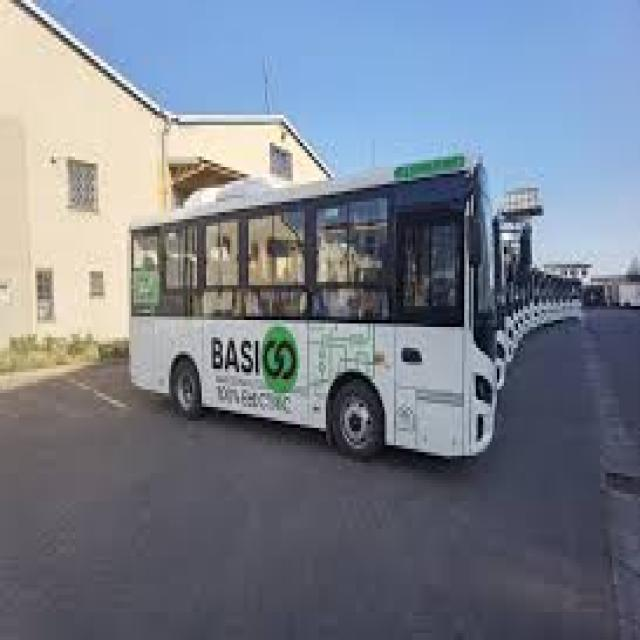bus: (101, 122, 503, 513)
